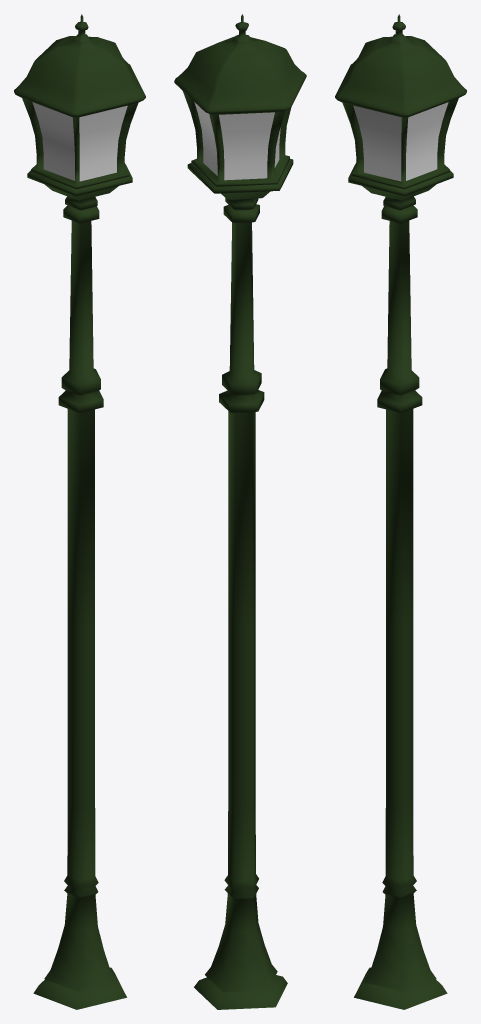
Rendered from lampadaire.fbx.
The picture shows the model from 3 angles, left to right: view 1: azimuth 30°, elevation 25°; view 2: azimuth 150°, elevation 25°; view 3: azimuth 330°, elevation 25°; orthographic projection.
Parts seen in each view (by area): view 1: Lampadaire; view 2: Lampadaire; view 3: Lampadaire.
Part boxes in pixels (x1=…): Lampadaire: x1=14, y1=14, x2=145, y2=1009; Lampadaire: x1=174, y1=14, x2=306, y2=1009; Lampadaire: x1=335, y1=14, x2=466, y2=1009.
Size of the model in its own units: 45.72 by 371 by 43.49.
